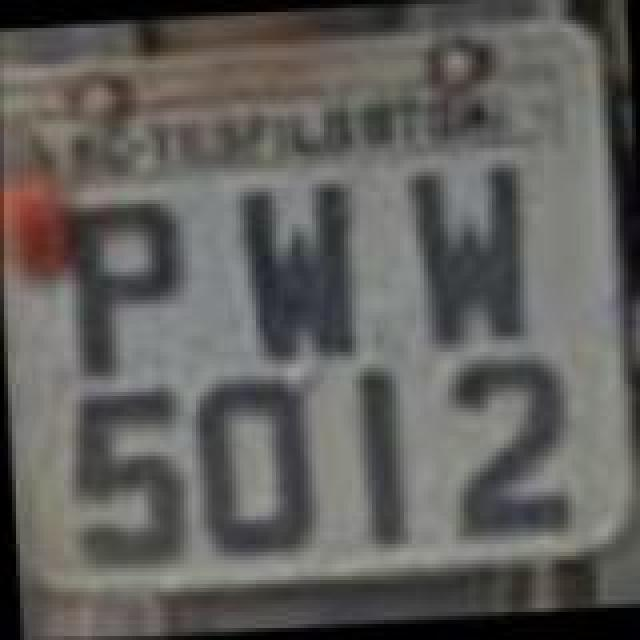1: (340, 366, 408, 542)
2: (444, 348, 576, 540)
5: (62, 380, 194, 572)
O: (184, 368, 320, 560)
P: (58, 196, 190, 380)
W: (234, 170, 366, 366), (408, 156, 536, 356)
